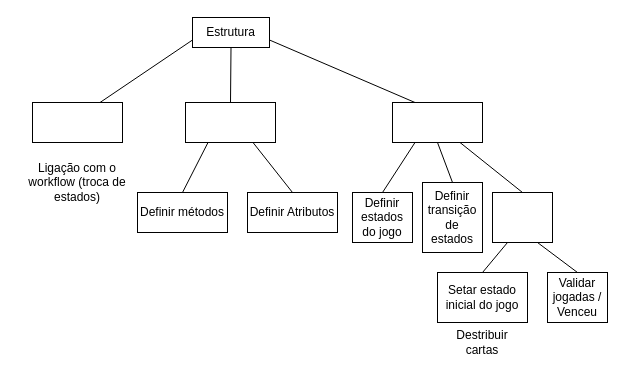
This 625x375 diagram has some shape labels left out. The box of each missing label's shape, as (x1, y1, x2, y2) in pixels:
Criar classes do jogo: (184, 102, 276, 142)
Estados em jogo: (492, 192, 552, 242)
Tratar eventos interface: (32, 102, 122, 142)
Workflow: (392, 102, 482, 142)
